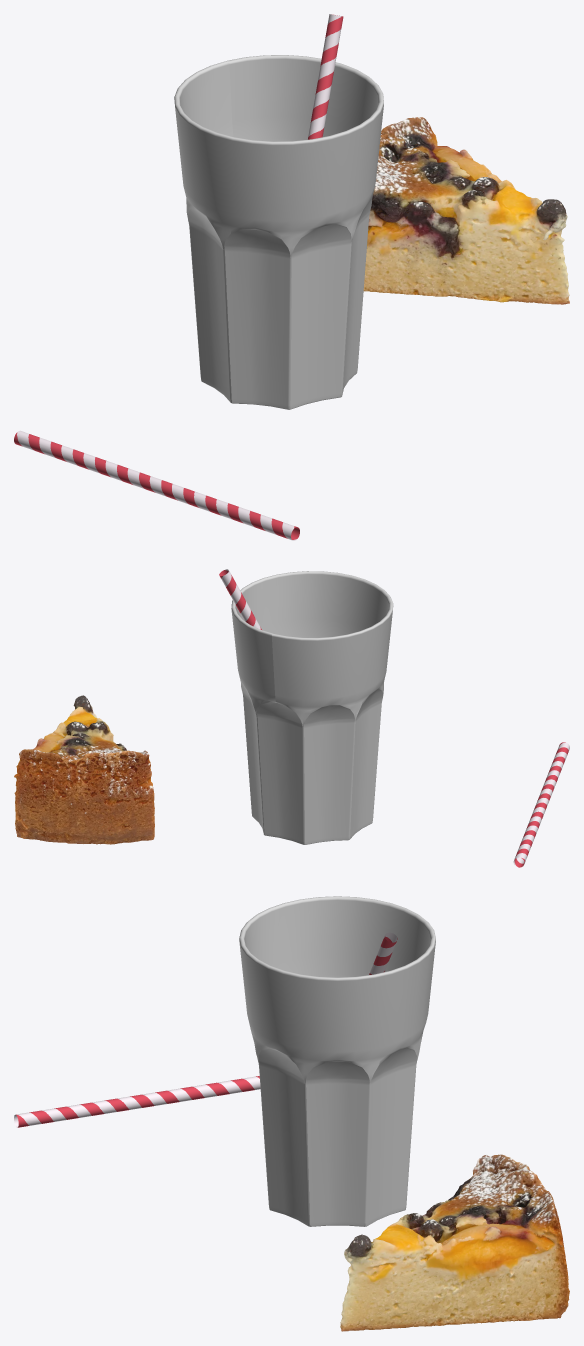
File: glass-transformed.glb
3 views of the same model, one above another, from view 1: azimuth 30°, elevation 25°; view 2: azimuth 150°, elevation 25°; view 3: azimuth 270°, elevation 25° (orthographic). The views are drawn at different scales.
Visible parts, largest first — view 1: glass, cake, glass_back, straw.001, glass_inner, straw; view 2: glass, cake, glass_back, glass_inner, straw.001, straw; view 3: cake, glass_back, glass, glass_inner, straw.001, straw.
Boxes of the visible parts, <box> form: glass: <box>174,55,383,409</box>; cake: <box>363,117,569,304</box>; glass_back: <box>176,107,382,409</box>; straw.001: <box>14,430,299,540</box>; glass_inner: <box>180,59,378,141</box>; straw: <box>308,14,343,139</box>; glass: <box>231,571,393,844</box>; cake: <box>14,695,154,844</box>; glass_back: <box>233,614,390,844</box>; glass_inner: <box>242,574,388,637</box>; straw.001: <box>513,742,569,867</box>; straw: <box>219,569,261,629</box>; cake: <box>340,1154,569,1331</box>; glass_back: <box>240,941,435,1226</box>; glass: <box>239,896,435,1226</box>; glass_inner: <box>244,901,428,977</box>; straw.001: <box>14,1076,260,1127</box>; straw: <box>369,932,397,974</box>.
Size of the model in its own units: 2.97 by 1.62 by 2.7.
Materials: 4 (1 with a texture image).
